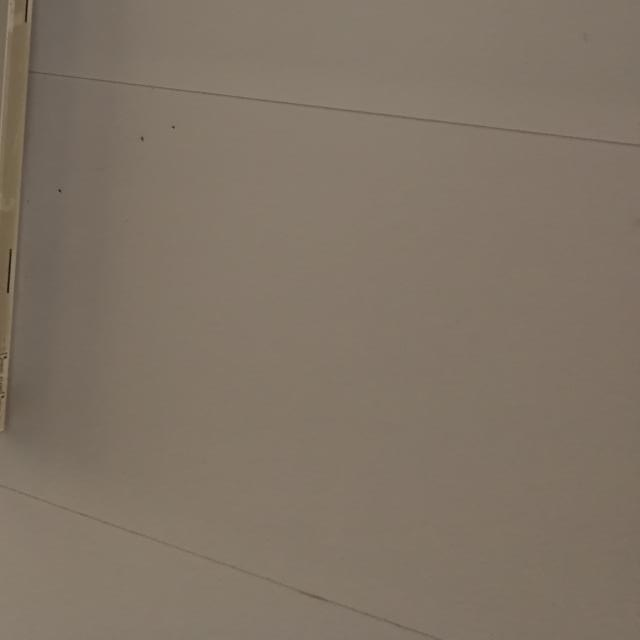fluorescent tube: (0, 0, 88, 458)
